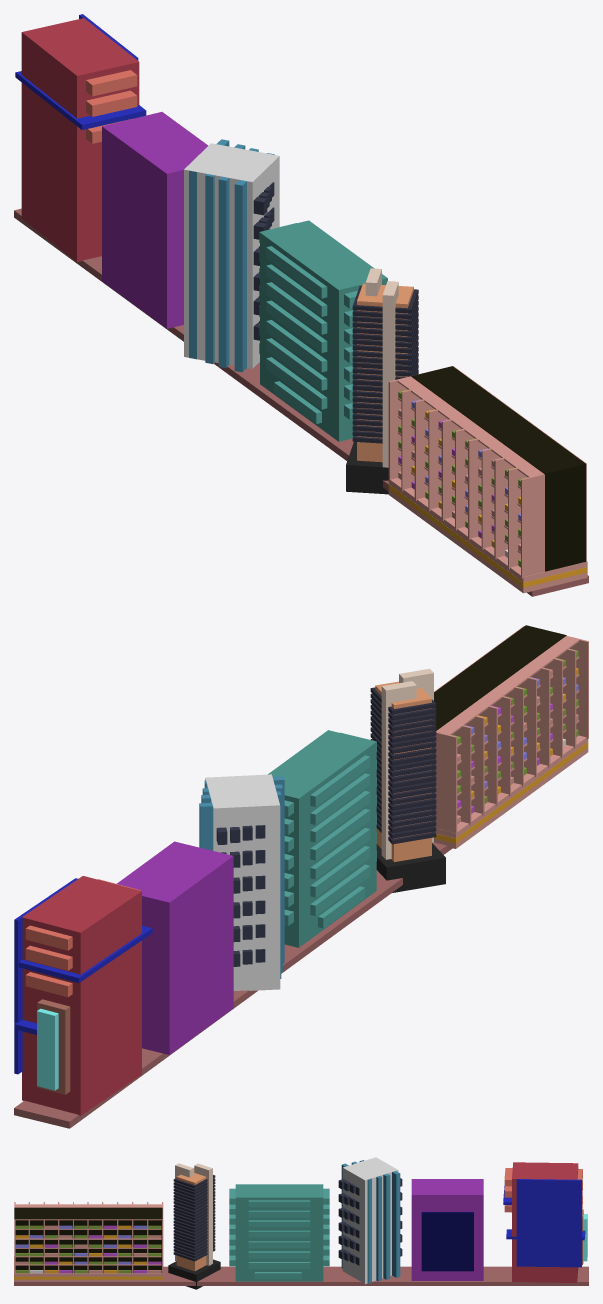
Rendered from BuildingBlockB.glb.
The picture shows the model from 3 angles, top to bottom: view 1: azimuth 30°, elevation 25°; view 2: azimuth 150°, elevation 25°; view 3: azimuth 270°, elevation 25°; orthographic projection. The views are drawn at different scales.
Parts seen in each view (by area): view 1: Cube.226, Cube.235, Cube.286, Cube.384, Cube.237, Cube.225, Cube.281, Cube.271, Cube.282, Cube.382, Cube.323, Cube.378 (+27 smaller); view 2: Cube.226, Cube.235, Cube.237, Cube.286, Cube.384, Cube.225, Cube.382, Cube.379, Cube.372, Cube.370, Cube.323, Cube.233 (+28 smaller); view 3: Cube.384, Cube.227, Cube.286, Cube.225, Cube.235, Cube.237, Cube.236, Cube.226, Cube.284, Cube.382, Cube.283, Cube.370 (+22 smaller).
Boxes of the visible parts, left/top/right/bottom form: Cube.226: left=21, top=18, right=139, bottom=261; Cube.235: left=102, top=112, right=208, bottom=328; Cube.286: left=260, top=220, right=387, bottom=441; Cube.384: left=411, top=366, right=586, bottom=571; Cube.237: left=184, top=143, right=279, bottom=368; Cube.225: left=14, top=208, right=588, bottom=596; Cube.281: left=234, top=153, right=274, bottom=372; Cube.271: left=521, top=464, right=586, bottom=578; Cube.282: left=218, top=148, right=258, bottom=367; Cube.382: left=397, top=366, right=586, bottom=477; Cube.323: left=357, top=283, right=413, bottom=462; Cube.378: left=382, top=281, right=398, bottom=467; Cube.226: left=22, top=876, right=141, bottom=1115; Cube.235: left=117, top=841, right=233, bottom=1054; Cube.237: left=205, top=774, right=280, bottom=990; Cube.286: left=268, top=730, right=376, bottom=947; Cube.384: left=434, top=625, right=566, bottom=730; Cube.225: left=14, top=842, right=452, bottom=1128; Cube.382: left=434, top=626, right=579, bottom=734; Cube.379: left=435, top=732, right=457, bottom=834; Cube.372: left=376, top=843, right=445, bottom=892; Cube.370: left=381, top=681, right=416, bottom=859; Cube.323: left=375, top=681, right=431, bottom=861; Cube.233: left=37, top=1008, right=58, bottom=1090; Cube.384: left=14, top=1207, right=162, bottom=1272; Cube.227: left=516, top=1179, right=581, bottom=1267; Cube.286: left=235, top=1184, right=323, bottom=1281; Cube.225: left=14, top=1266, right=588, bottom=1285; Cube.235: left=411, top=1179, right=483, bottom=1280; Cube.237: left=342, top=1157, right=398, bottom=1284; Cube.236: left=421, top=1212, right=473, bottom=1271; Cube.226: left=512, top=1162, right=578, bottom=1282; Cube.284: left=392, top=1171, right=400, bottom=1277; Cube.382: left=15, top=1204, right=161, bottom=1220; Cube.283: left=359, top=1160, right=390, bottom=1279; Cube.370: left=194, top=1163, right=212, bottom=1265.
Bounding box in the file's own units: 44.67 × 95.74 × 449.
